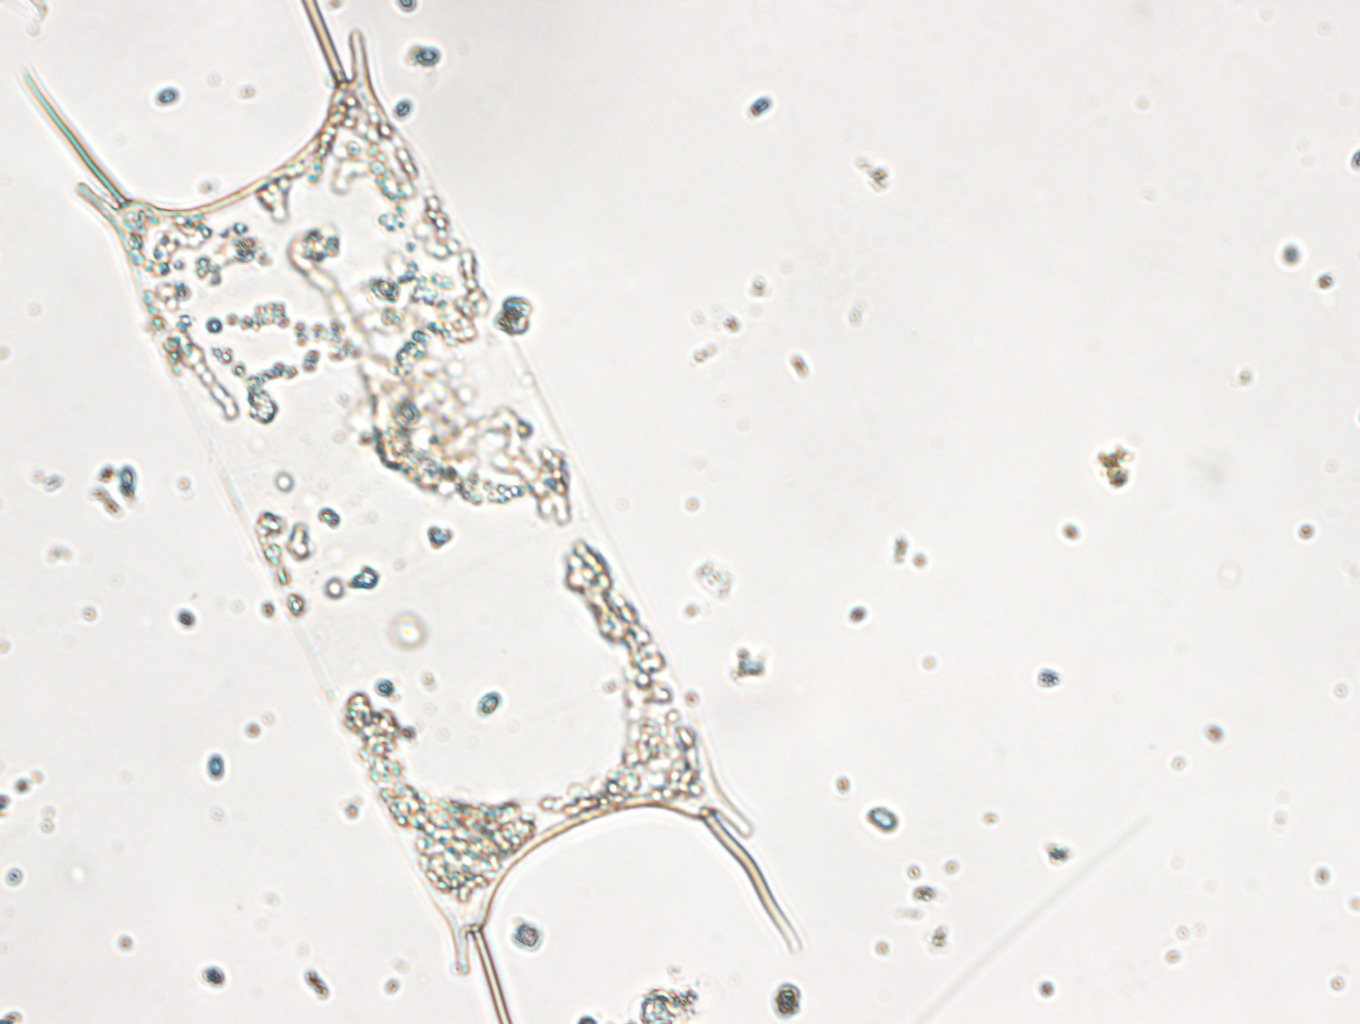biddulphia: (19, 1, 805, 1024)
